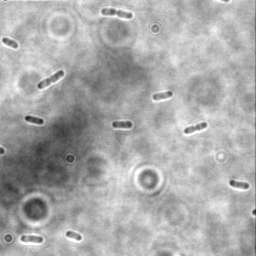Dividing: (37, 68, 66, 91), (100, 7, 134, 19), (183, 121, 209, 135)
Rod: (20, 233, 45, 245), (151, 90, 175, 102), (2, 36, 20, 51), (229, 178, 250, 190), (65, 229, 84, 241), (25, 114, 45, 125), (111, 120, 133, 129)
